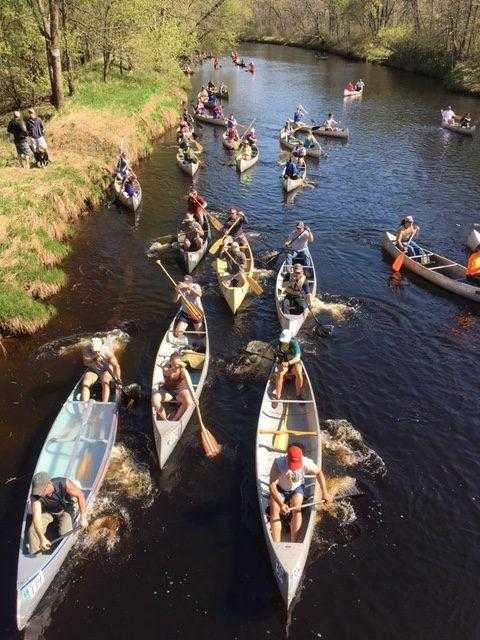kayak: (17, 334, 121, 633), (251, 330, 327, 620), (149, 273, 216, 473), (380, 231, 480, 303), (273, 247, 317, 339), (212, 235, 255, 315), (110, 156, 143, 213), (278, 120, 323, 156), (176, 133, 203, 177), (232, 134, 259, 173), (195, 98, 226, 127), (440, 113, 479, 136), (222, 119, 244, 151), (311, 121, 349, 139), (321, 112, 341, 137)
